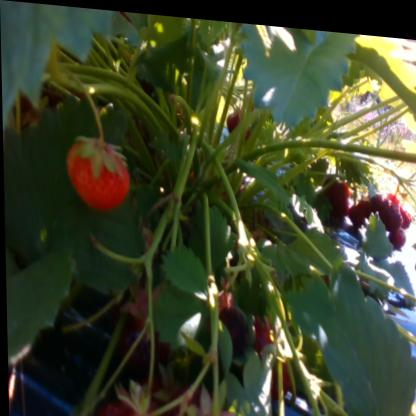ripe: (67, 130, 127, 206), (96, 387, 159, 416), (318, 170, 354, 213), (224, 99, 256, 141), (381, 193, 407, 224), (388, 407, 416, 416)
